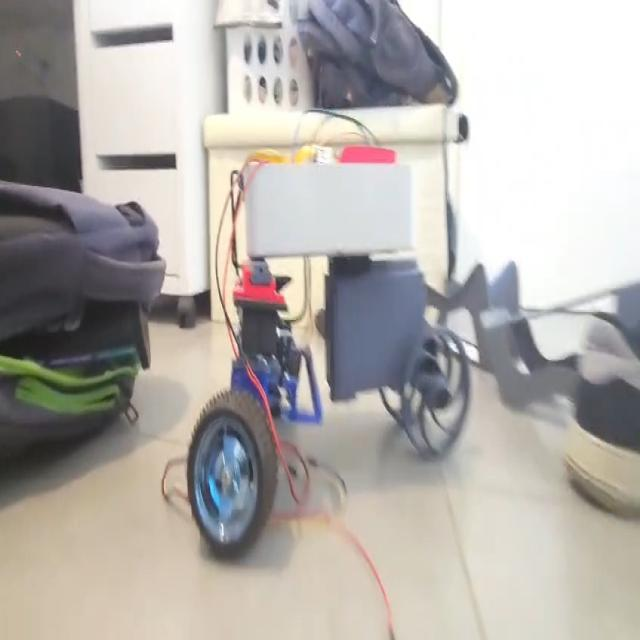Robot: (187, 143, 469, 562)
